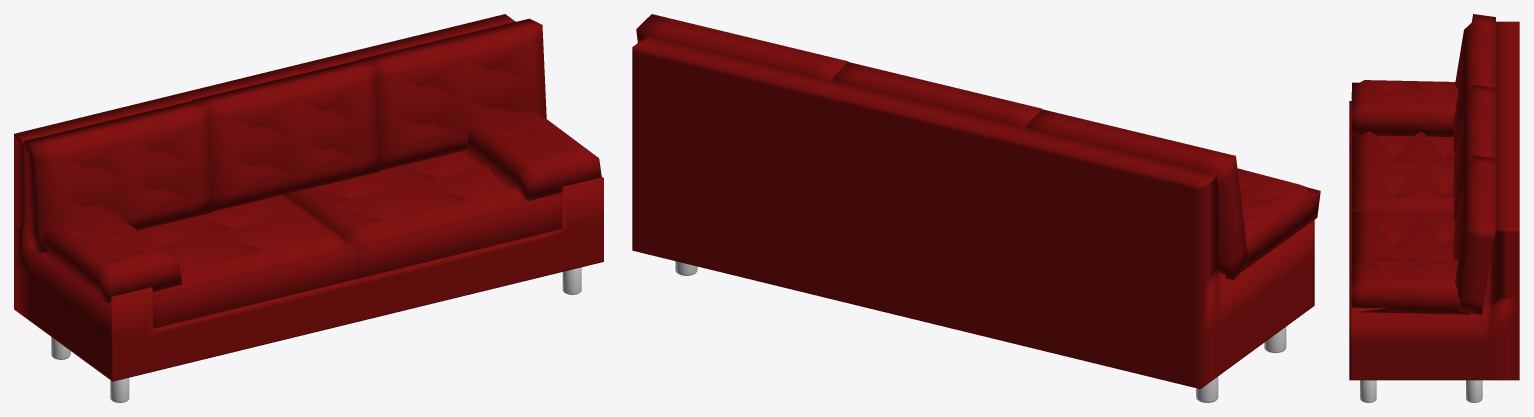
File: red.gltf
3 renders of one model, left to right at view 1: azimuth 30°, elevation 25°; view 2: azimuth 150°, elevation 25°; view 3: azimuth 270°, elevation 25°, orthographic. The views are drawn at different scales.
Visible parts, largest first — view 1: Couch, Plane003, Plane, Plane005, Plane004, Plane001, Plane006, Plane007; view 2: Couch, Plane005, Plane006, Plane004, Plane003; view 3: Couch, Plane001, Plane007, Plane006, Plane004, Plane, Plane003, Plane005, Circle001, Circle.
Boxes of the visible parts, left/top/right/bottom form: Couch: left=14, top=14, right=603, bottom=381; Plane003: left=192, top=60, right=379, bottom=211; Plane: left=285, top=150, right=562, bottom=278; Plane005: left=24, top=101, right=211, bottom=252; Plane004: left=359, top=18, right=546, bottom=170; Plane001: left=138, top=194, right=356, bottom=328; Plane006: left=42, top=211, right=181, bottom=303; Plane007: left=465, top=110, right=601, bottom=200; Couch: left=632, top=35, right=1314, bottom=389; Plane005: left=1026, top=109, right=1248, bottom=279; Plane006: left=1237, top=168, right=1320, bottom=271; Plane004: left=636, top=14, right=848, bottom=80; Plane003: left=833, top=62, right=1041, bottom=127; Couch: left=1349, top=21, right=1519, bottom=380; Plane001: left=1352, top=131, right=1455, bottom=212; Plane007: left=1351, top=257, right=1469, bottom=314; Plane006: left=1351, top=80, right=1458, bottom=136; Plane004: left=1453, top=155, right=1495, bottom=314; Plane: left=1352, top=211, right=1490, bottom=291; Plane003: left=1453, top=84, right=1495, bottom=223; Plane005: left=1453, top=14, right=1495, bottom=152; Circle001: left=1466, top=380, right=1482, bottom=402; Circle: left=1360, top=380, right=1376, bottom=402.
Size of the model in its own units: 5.96 by 2.41 by 2.
